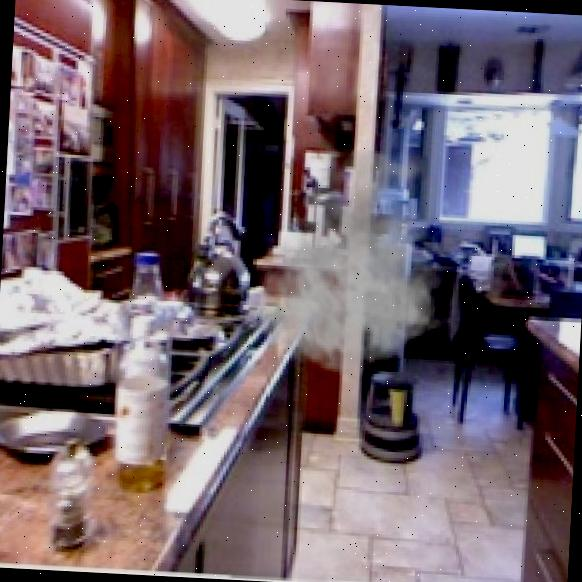smoke: (242, 124, 463, 383)
